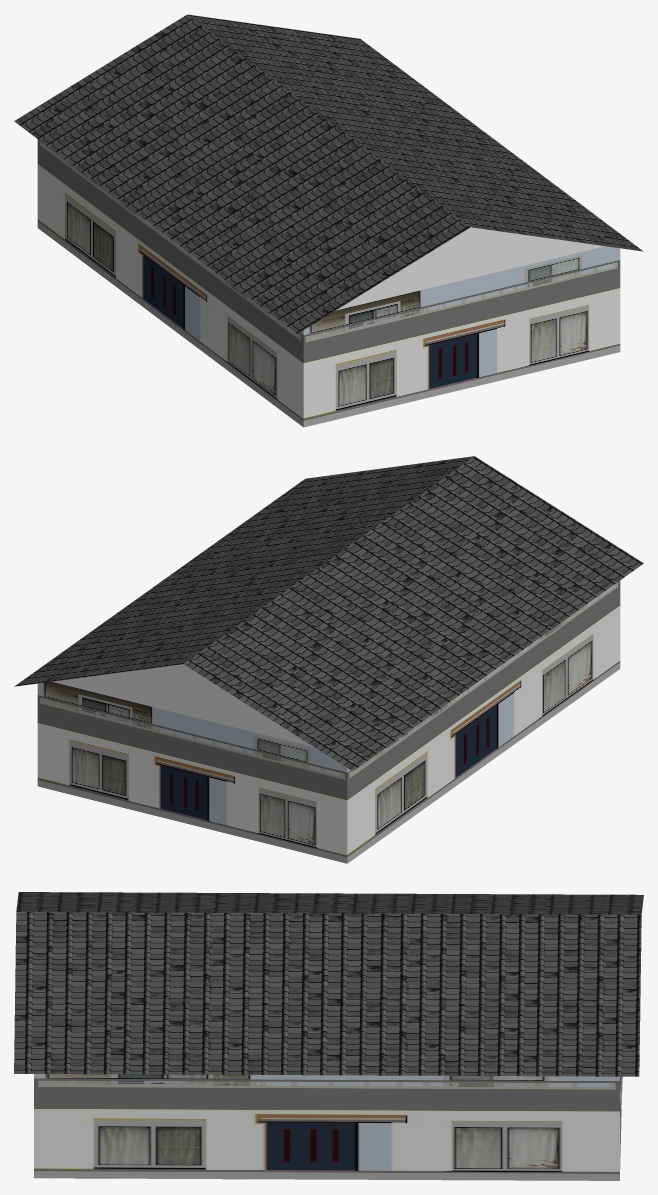
The picture shows the model from 3 angles, top to bottom: view 1: azimuth 30°, elevation 25°; view 2: azimuth 150°, elevation 25°; view 3: azimuth 270°, elevation 25°; orthographic projection. The views are drawn at different scales.
Visible parts, largest first — view 1: CityEngineMaterial_8_m, CityEngineMaterial_7_m, CityEngineMaterial_3_m; view 2: CityEngineMaterial_8_m, CityEngineMaterial_7_m, CityEngineMaterial_3_m; view 3: CityEngineMaterial_8_m, CityEngineMaterial_7_m.
Part boxes in pixels (x1,y1,x2,y2): CityEngineMaterial_8_m: [14, 14, 643, 333]; CityEngineMaterial_7_m: [37, 139, 620, 427]; CityEngineMaterial_3_m: [336, 227, 604, 310]; CityEngineMaterial_8_m: [14, 456, 643, 771]; CityEngineMaterial_7_m: [37, 580, 620, 863]; CityEngineMaterial_3_m: [52, 664, 314, 747]; CityEngineMaterial_8_m: [14, 892, 643, 1076]; CityEngineMaterial_7_m: [34, 1074, 622, 1180].
Size of the model in its own units: 22.2 by 10.27 by 32.
